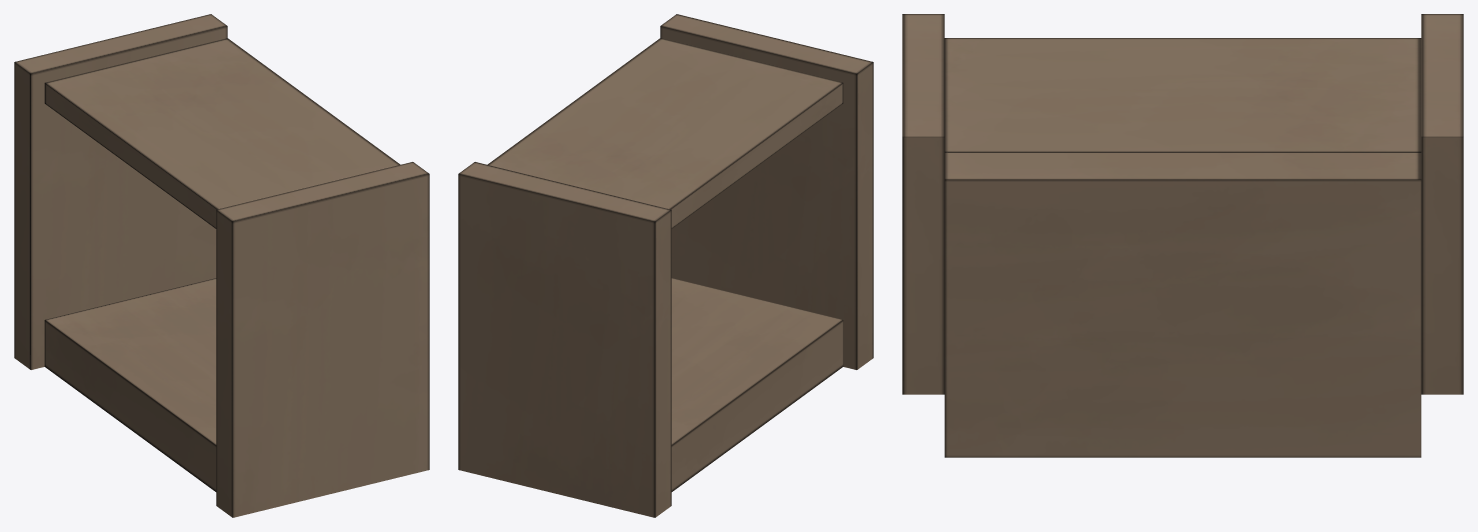
Rendered from shelf3.fbx.
3 renders of one model, left to right at view 1: azimuth 30°, elevation 25°; view 2: azimuth 150°, elevation 25°; view 3: azimuth 270°, elevation 25°, orthographic. The views are drawn at different scales.
Parts seen in each view (by area): view 1: polySurface1675; view 2: polySurface1675; view 3: polySurface1675.
Part boxes in pixels (x1=…): polySurface1675: x1=14, y1=14, x2=429, y2=517; polySurface1675: x1=458, y1=14, x2=873, y2=517; polySurface1675: x1=902, y1=14, x2=1463, y2=457.
Bounding box in the file's own units: 0.4196 × 0.6033 × 0.8066.
